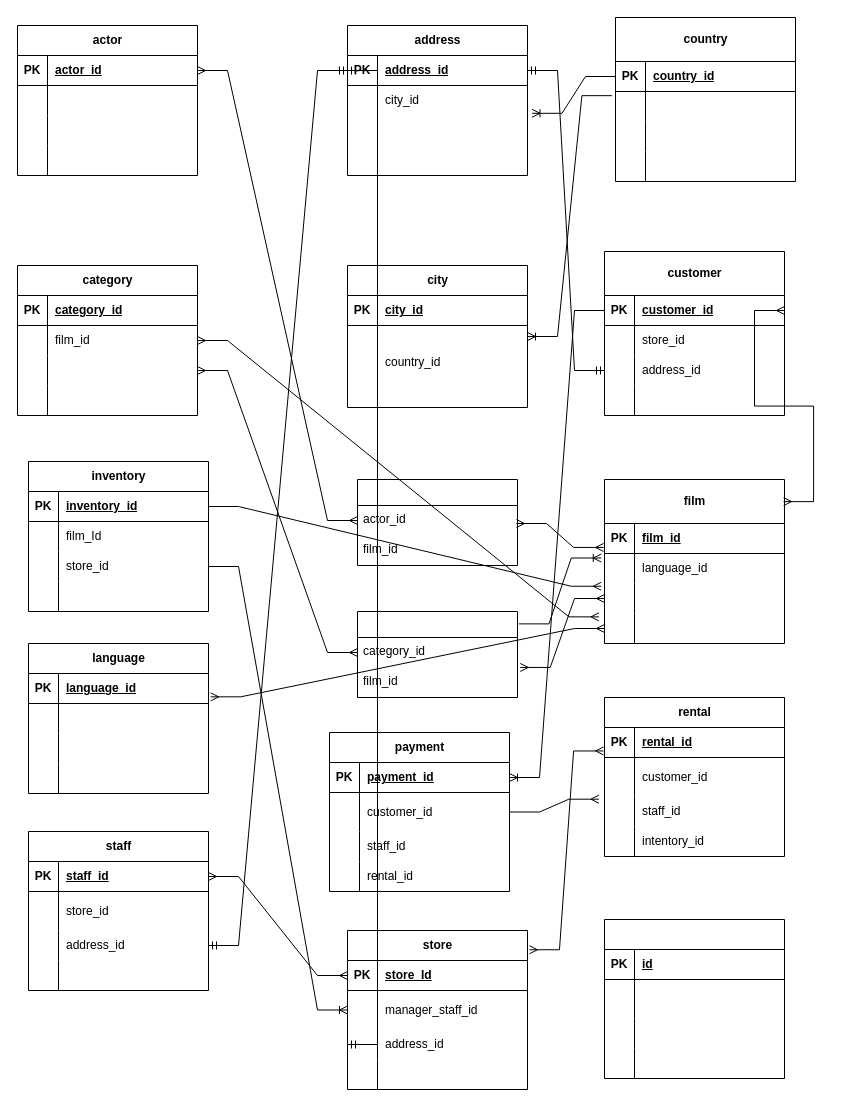
This 841x1107 diagram has some shape labels left out. The shapes that lost their labels are listed below. From the top down, each one's box as (x1, y1, x2, y2) in pixels, then its label:
(356, 478, 518, 566): film_actor
(356, 610, 518, 698): film_category
(604, 918, 784, 1078): top_10_actors
